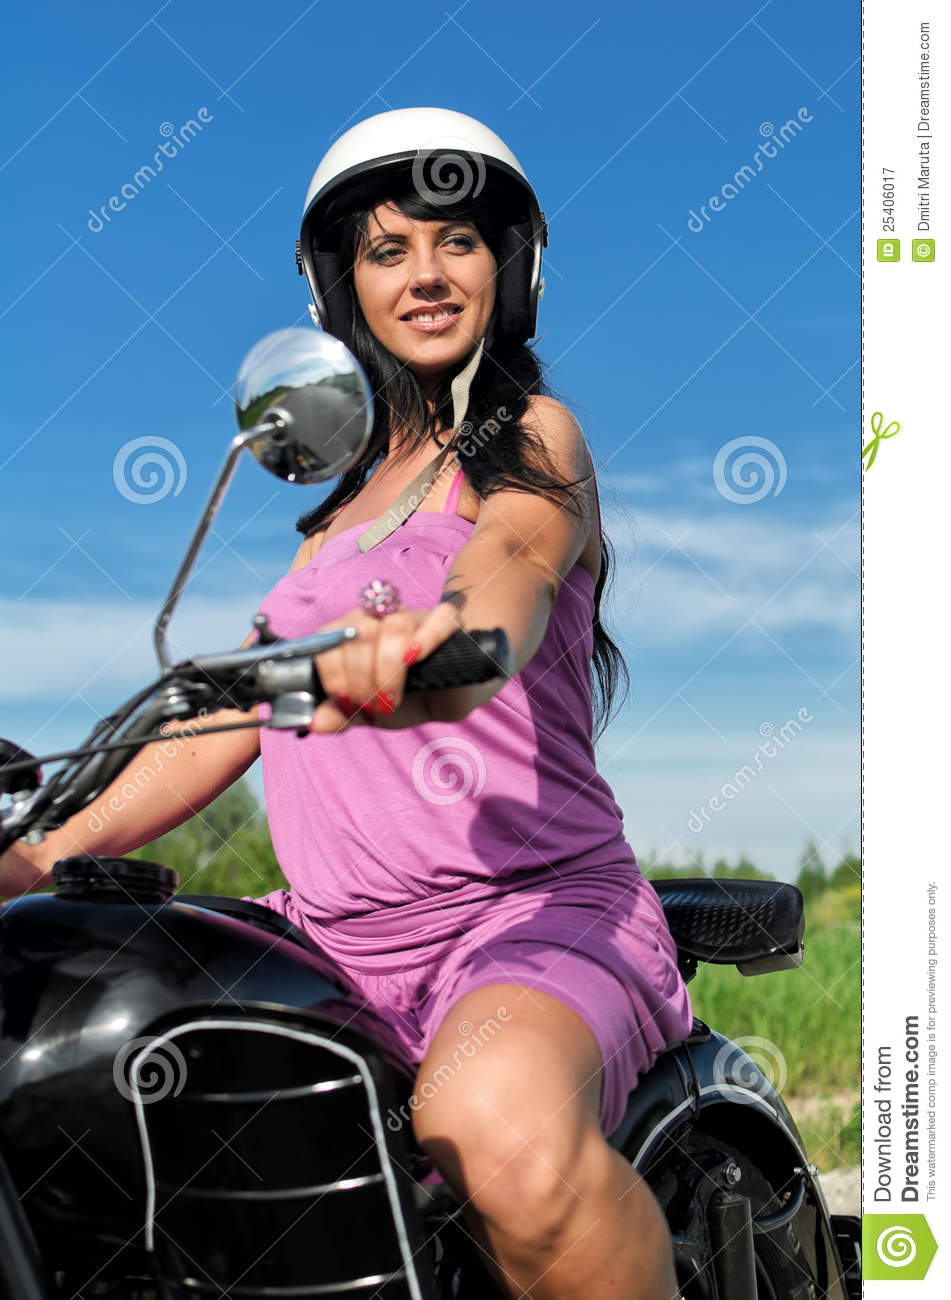helmet: (287, 97, 551, 243)
